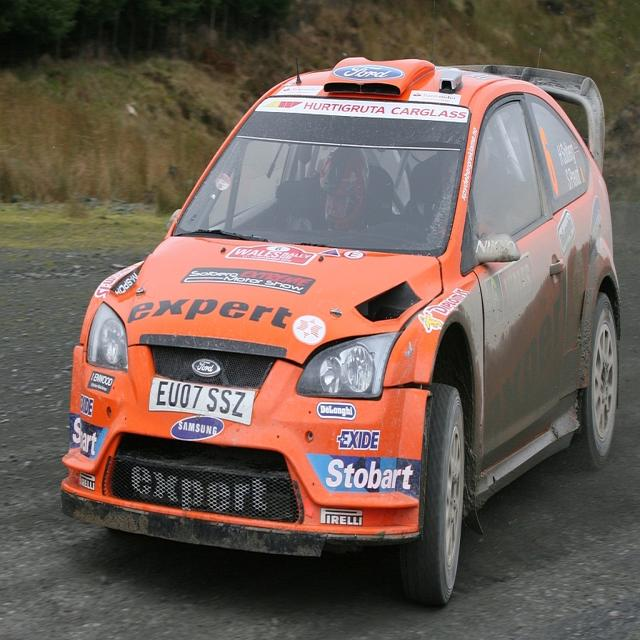car: (59, 52, 622, 607)
